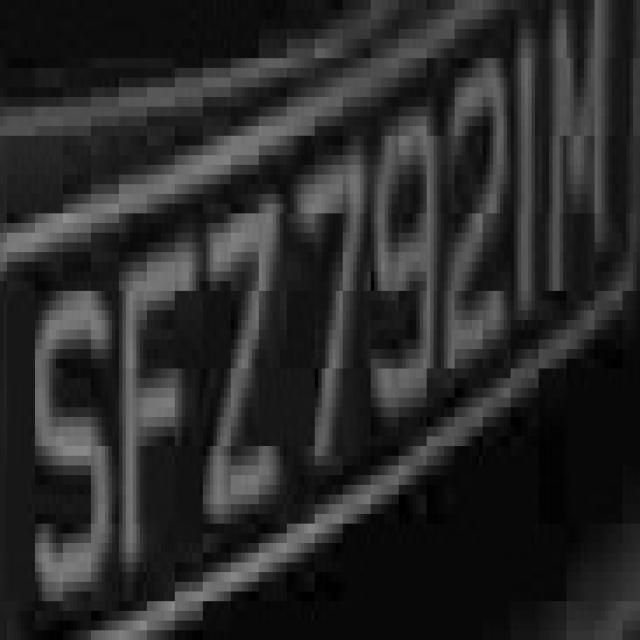1: (510, 19, 546, 378)
2: (437, 48, 504, 417)
7: (283, 136, 367, 504)
9: (360, 68, 444, 436)
F: (108, 233, 206, 592)
M: (538, 10, 608, 320)
S: (28, 252, 112, 630)
Z: (192, 155, 287, 572)
